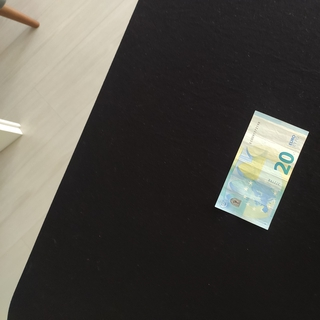20EUROBack: (214, 110, 309, 230)
